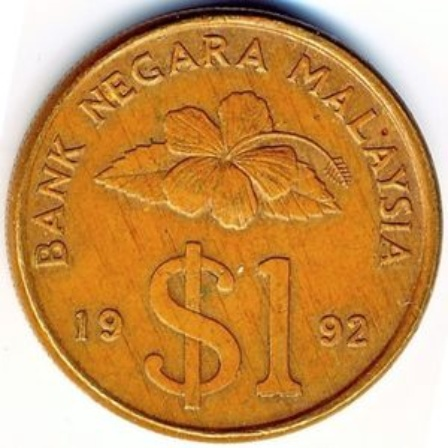1r: (12, 5, 445, 442)
